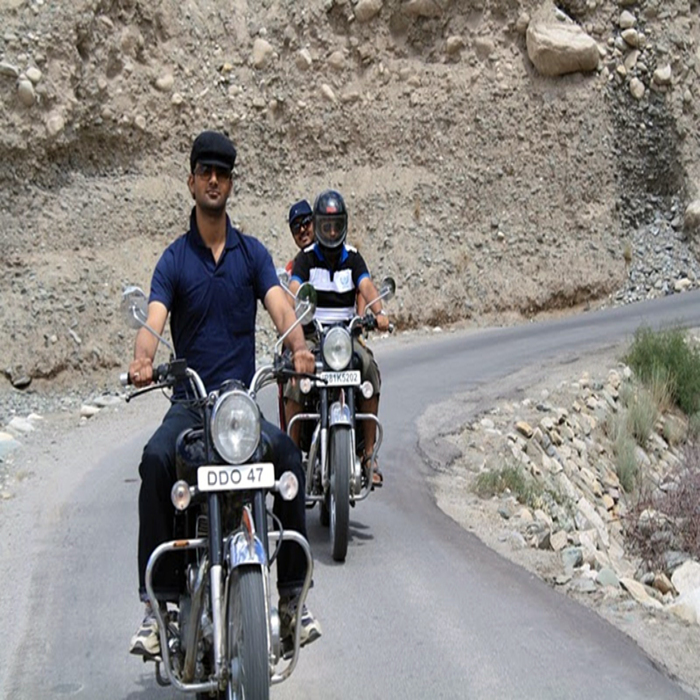h: (312, 189, 349, 249), (189, 131, 238, 176)
n: (195, 461, 277, 493), (317, 370, 361, 390)
